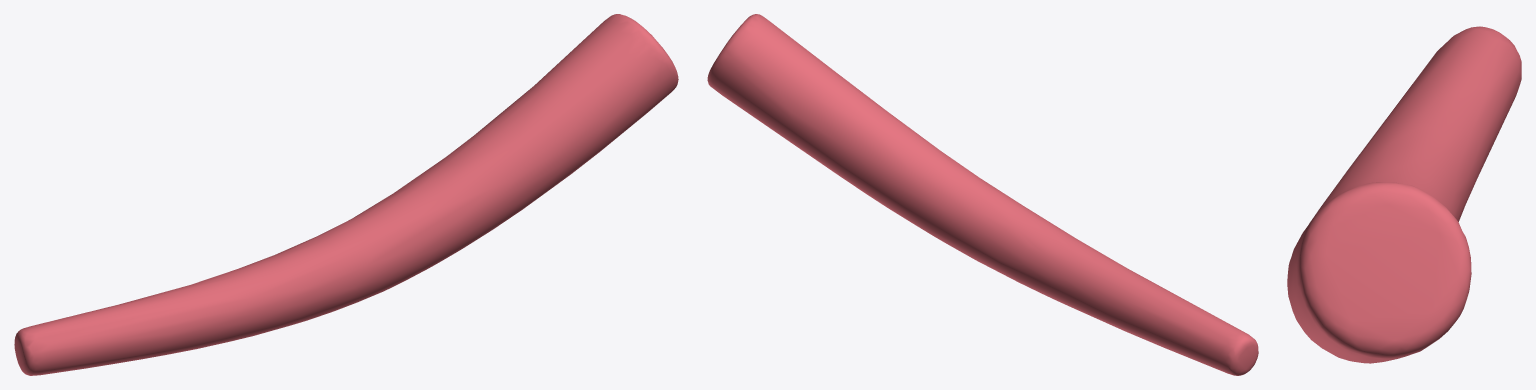
The model's file is fma68728_fj3006.glb.
3 renders of one model, left to right at view 1: azimuth 30°, elevation 25°; view 2: azimuth 150°, elevation 25°; view 3: azimuth 270°, elevation 25°, orthographic. The views are drawn at different scales.
Visible parts, largest first — view 1: FMA68728_FJ3006; view 2: FMA68728_FJ3006; view 3: FMA68728_FJ3006.
Part boxes in pixels (x1,y1,x2,y2): FMA68728_FJ3006: [14, 14, 678, 375]; FMA68728_FJ3006: [707, 14, 1258, 375]; FMA68728_FJ3006: [1287, 26, 1521, 363].
Size of the model in its own units: 0.0321 by 0.0117 by 0.00583.
